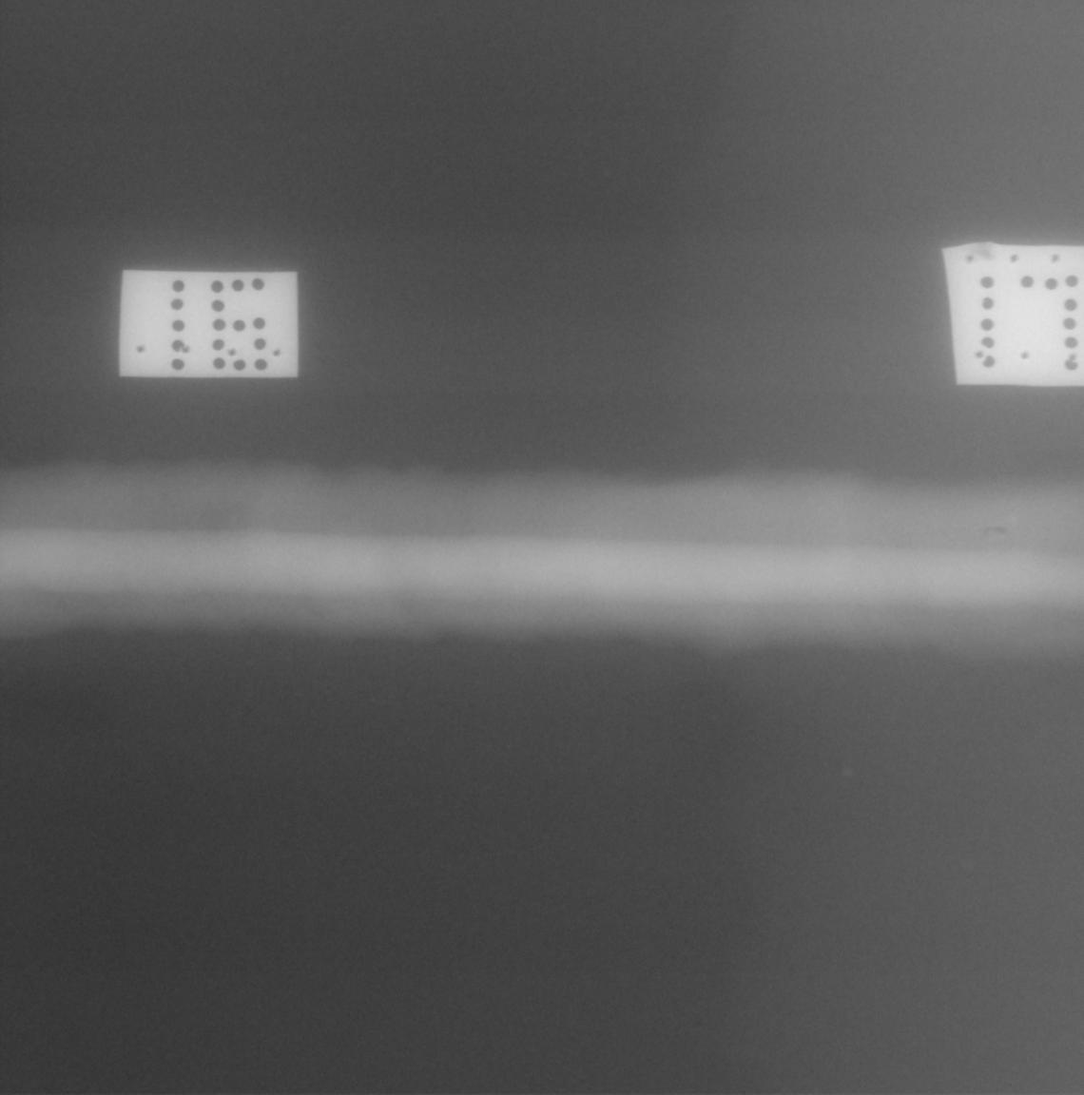Pore/Porosity: (984, 527, 1005, 536)
